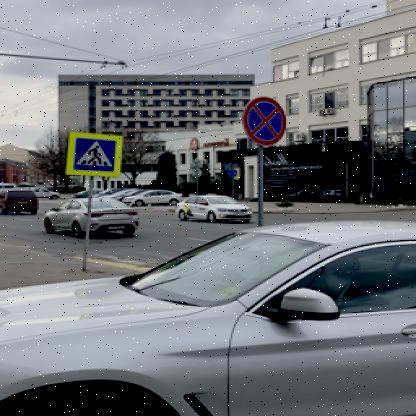crosswalk: (74, 136, 121, 172)
